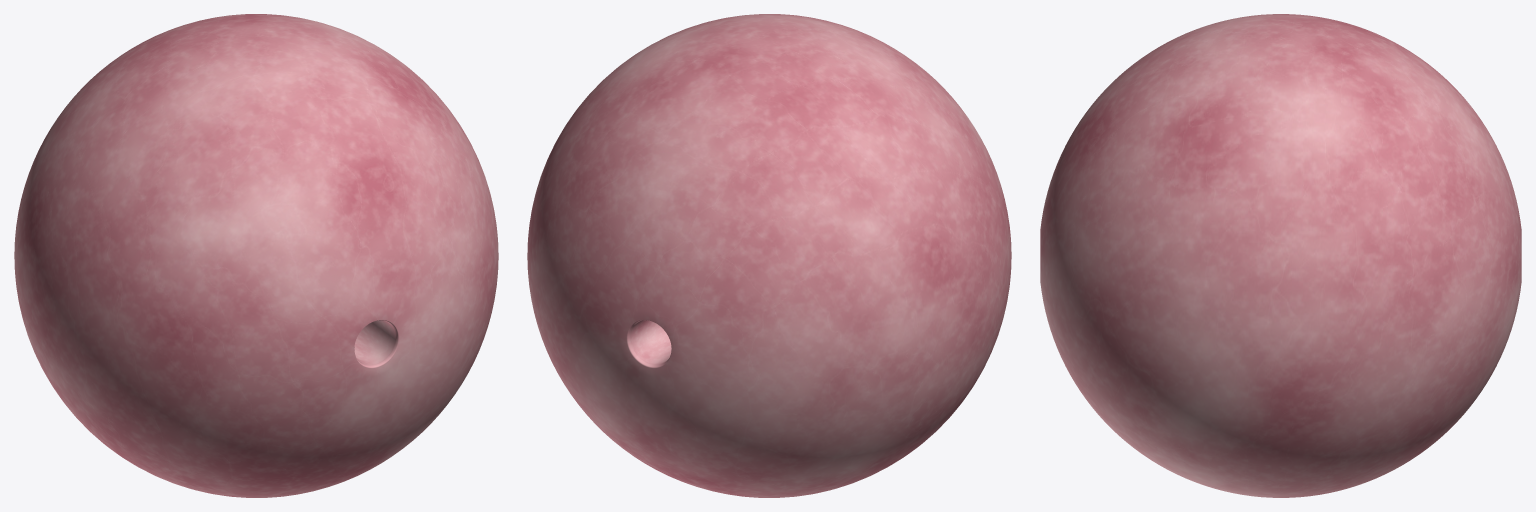
File: rose-quartz-10mm.glb
3 views of the same model, side by side, from view 1: azimuth 30°, elevation 25°; view 2: azimuth 150°, elevation 25°; view 3: azimuth 270°, elevation 25° (orthographic).
Visible parts, largest first — view 1: rose-quartz.001; view 2: rose-quartz.001; view 3: rose-quartz.001.
Part boxes in pixels (x1,y1,x2,y2): rose-quartz.001: [14, 14, 498, 497]; rose-quartz.001: [527, 14, 1011, 497]; rose-quartz.001: [1040, 14, 1521, 497].
Size of the model in its own units: 0.01 by 0.01 by 0.00994.
2 materials, 1 textured.
